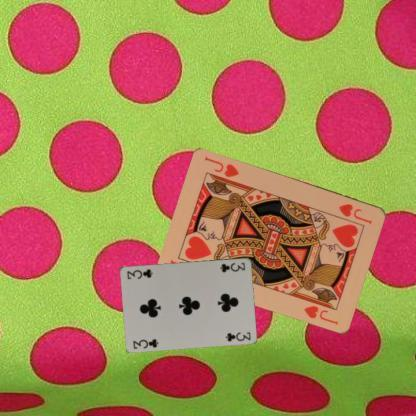3c: (130, 336, 160, 350), (218, 260, 247, 274)
Jh: (336, 200, 374, 225)
